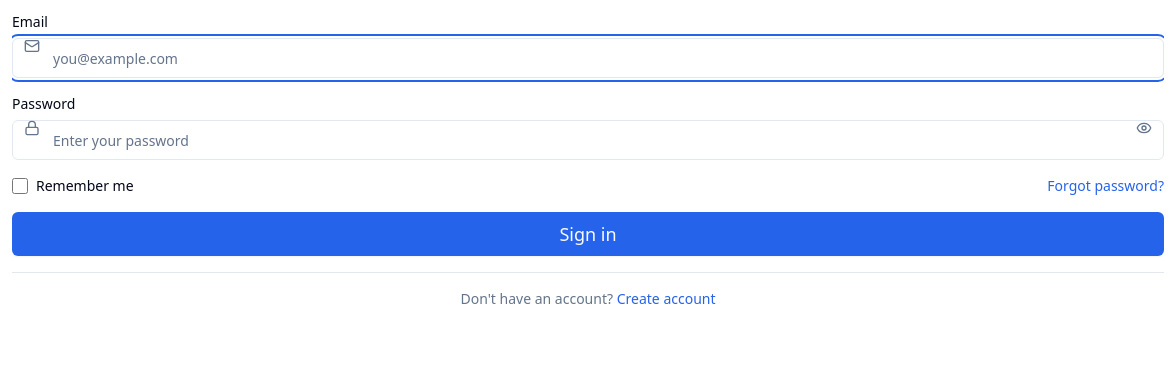
LoginForm › Form Validation › should clear email error when user starts typing
# Submit to trigger validation
Click the button "Sign in" at point(588, 234), box [12, 212, 1164, 256]
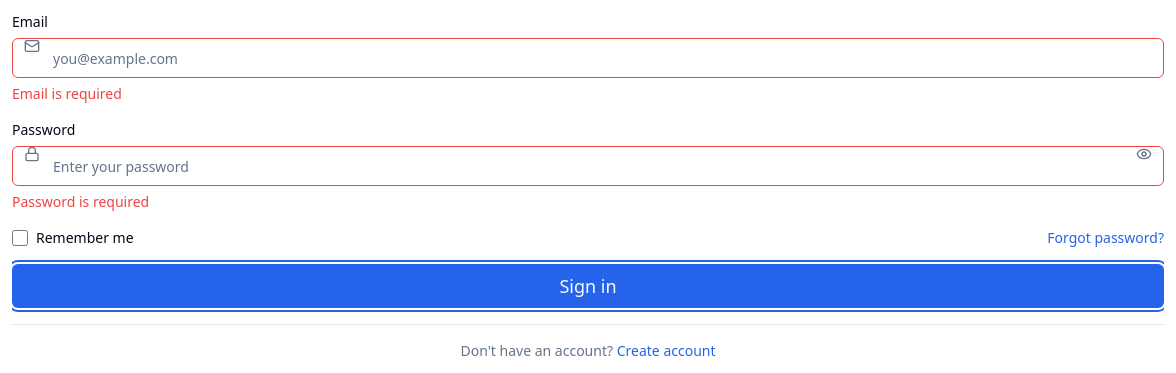
Expected: the text "Email is required" is shown, [12, 84, 122, 103]
# Start typing
Type "t" into the field labelled "Email" at point(588, 58), box [12, 38, 1164, 78]
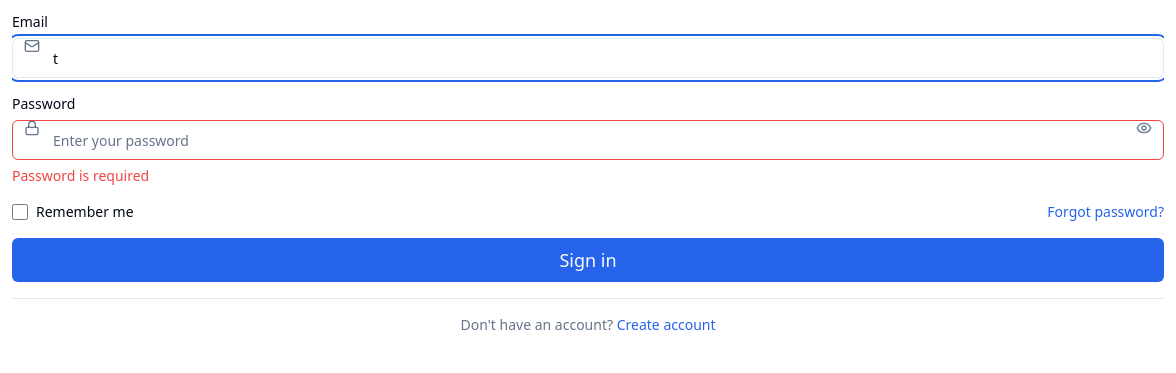
Expected: the text "Email is required" is gone
